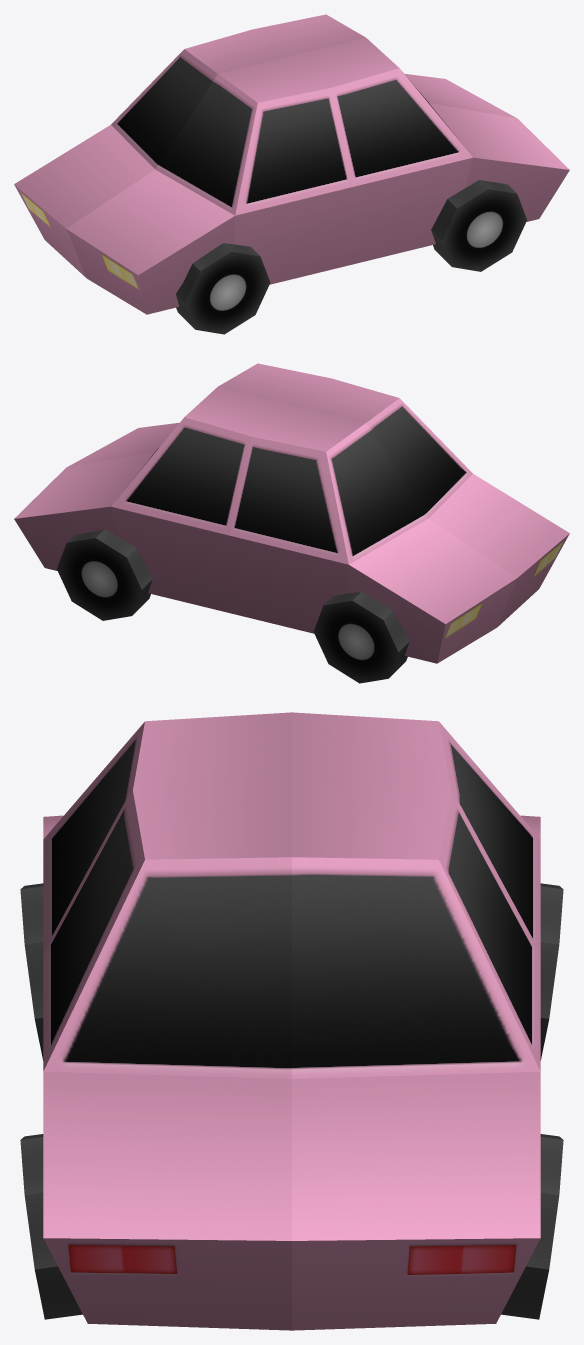
The model's file is car4.glb.
3 renders of one model, top to bottom at view 1: azimuth 30°, elevation 25°; view 2: azimuth 150°, elevation 25°; view 3: azimuth 270°, elevation 25°, orthographic. The views are drawn at different scales.
Parts seen in each view (by area): view 1: Car0; view 2: Car0; view 3: Car0.
Boxes of the visible parts, <box> form: Car0: <box>14,14,569,334</box>; Car0: <box>14,363,569,683</box>; Car0: <box>20,712,563,1330</box>.
Size of the model in its own units: 4.19 by 1.8 by 2.18.
1 material, 1 textured.
